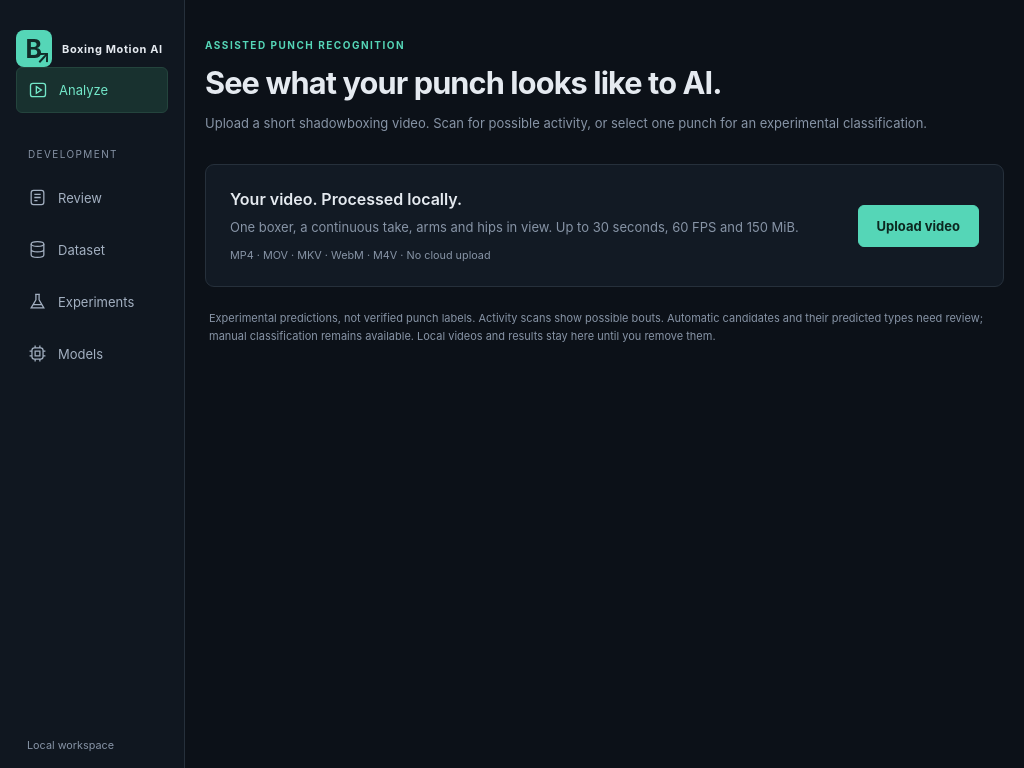
Test: interactive dashboard › shows an actionable backend failure
The image size is (1024, 768).
Click the button "Review".
click(92, 198)  # box [16,175,168,220]
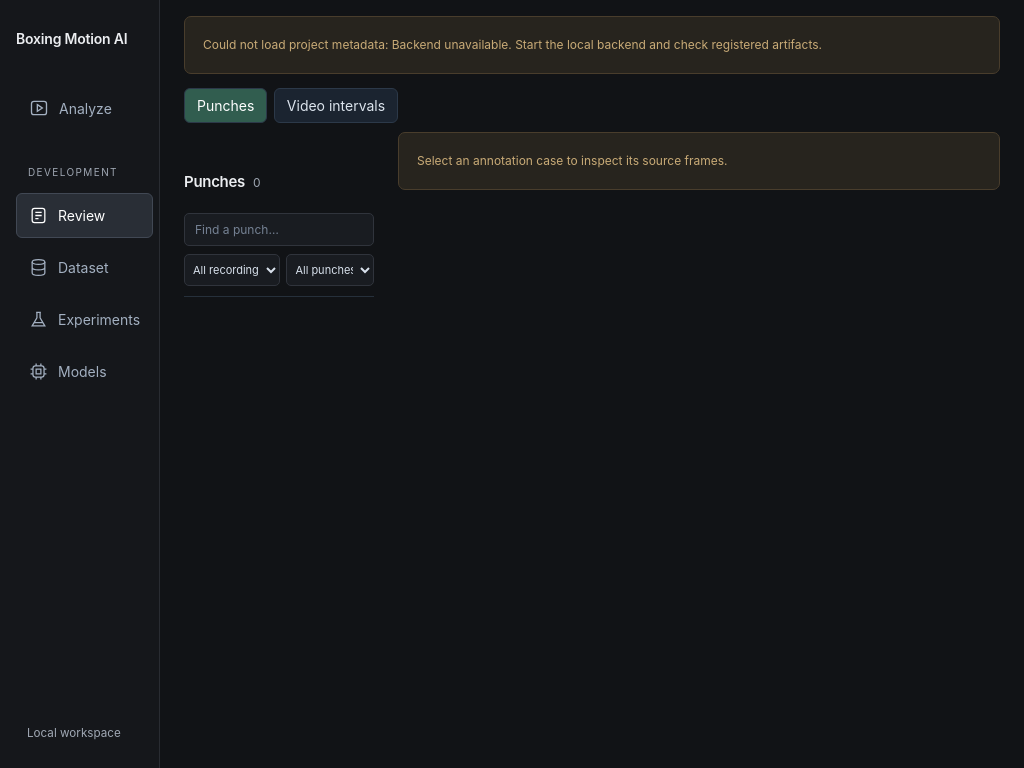
Expected: the text "Start the local backend" is shown, [508,37,822,52]
